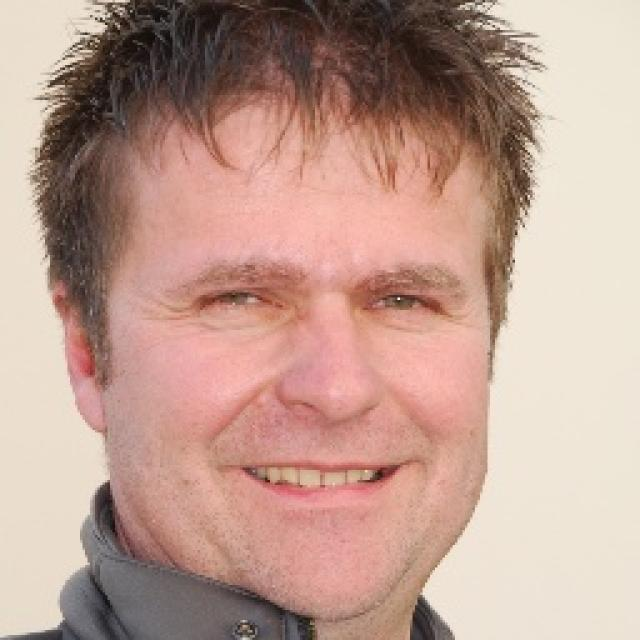earlobe: (49, 278, 106, 434)
